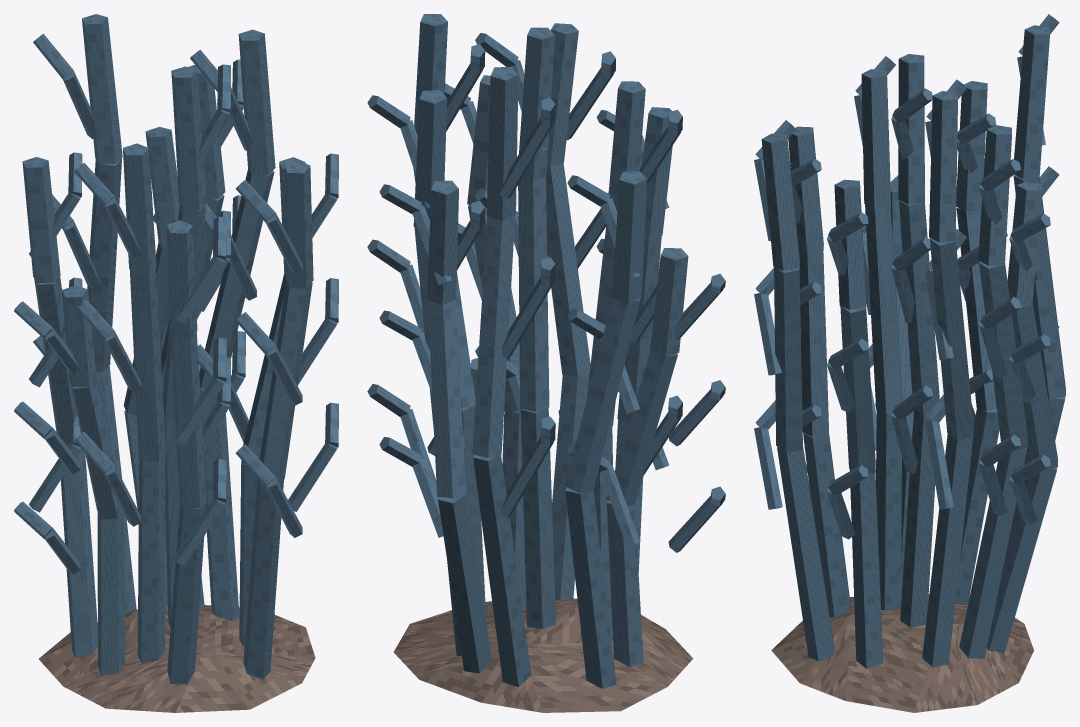
File: f_nm_nether_grass_tall.glb
The picture shows the model from 3 angles, left to right: view 1: azimuth 30°, elevation 25°; view 2: azimuth 150°, elevation 25°; view 3: azimuth 270°, elevation 25°; orthographic projection. The views are drawn at different scales.
Visible parts, largest first — view 1: block_segmented-plant-stem-1 (×10), block_segmented-plant-stem-2 (×11), block_segmented-plant-stem-3 (×10), block_angled-blade-1 (×25), block_root-substrate, block_angled-blade-2 (×20); view 2: block_segmented-plant-stem-2 (×11), block_segmented-plant-stem-1 (×11), block_segmented-plant-stem-3 (×11), block_root-substrate, block_angled-blade-1 (×18), block_angled-blade-2 (×9); view 3: block_segmented-plant-stem-1 (×11), block_segmented-plant-stem-2 (×11), block_segmented-plant-stem-3 (×11), block_root-substrate, block_angled-blade-1 (×15), block_angled-blade-2 (×13).
Boxes of the visible parts, left/top/right/bottom form: block_segmented-plant-stem-1 (×10): left=60, top=365, right=283, bottom=684; block_segmented-plant-stem-2 (×11): left=34, top=158, right=312, bottom=519; block_segmented-plant-stem-3 (×10): left=22, top=14, right=313, bottom=386; block_angled-blade-1 (×25): left=29, top=71, right=337, bottom=574; block_root-substrate: left=39, top=605, right=315, bottom=712; block_angled-blade-2 (×20): left=14, top=34, right=338, bottom=538; block_segmented-plant-stem-2 (×11): left=413, top=163, right=677, bottom=505; block_segmented-plant-stem-1 (×11): left=438, top=371, right=643, bottom=688; block_segmented-plant-stem-3 (×11): left=413, top=14, right=688, bottom=356; block_root-substrate: left=393, top=598, right=693, bottom=712; block_angled-blade-1 (×18): left=400, top=63, right=723, bottom=552; block_angled-blade-2 (×9): left=367, top=33, right=610, bottom=466; block_segmented-plant-stem-1 (×11): left=777, top=396, right=1065, bottom=668; block_segmented-plant-stem-2 (×11): left=774, top=175, right=1065, bottom=473; block_segmented-plant-stem-3 (×11): left=761, top=25, right=1049, bottom=309; block_root-substrate: left=771, top=594, right=1033, bottom=712; block_angled-blade-1 (×15): left=754, top=116, right=1037, bottom=539; block_angled-blade-2 (×13): left=828, top=88, right=1050, bottom=494.
Bounding box in the file's own units: 0.7405 × 1.41 × 0.6529.
1 material, 1 textured.
